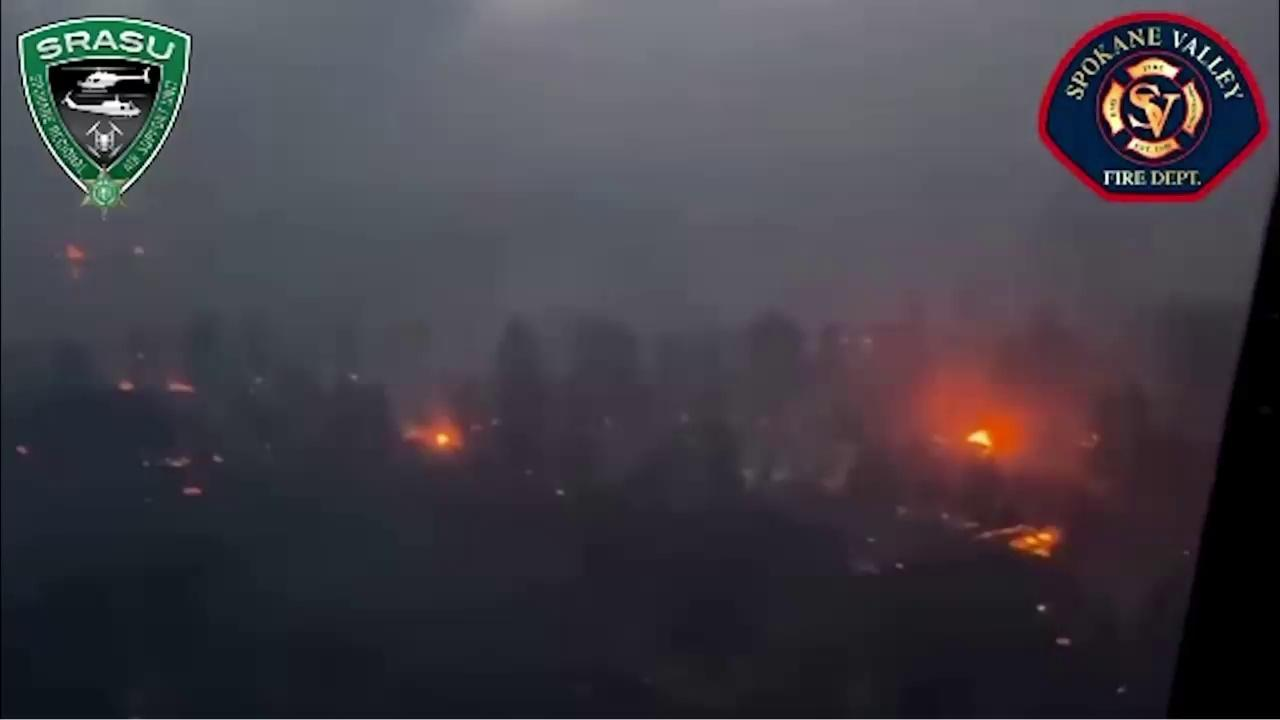fire: (964, 515, 1066, 560), (397, 393, 467, 455), (137, 451, 192, 472), (959, 425, 999, 450), (161, 377, 201, 397), (111, 379, 138, 396), (64, 244, 89, 262), (176, 486, 206, 497)
smoke: (3, 0, 1278, 720)
